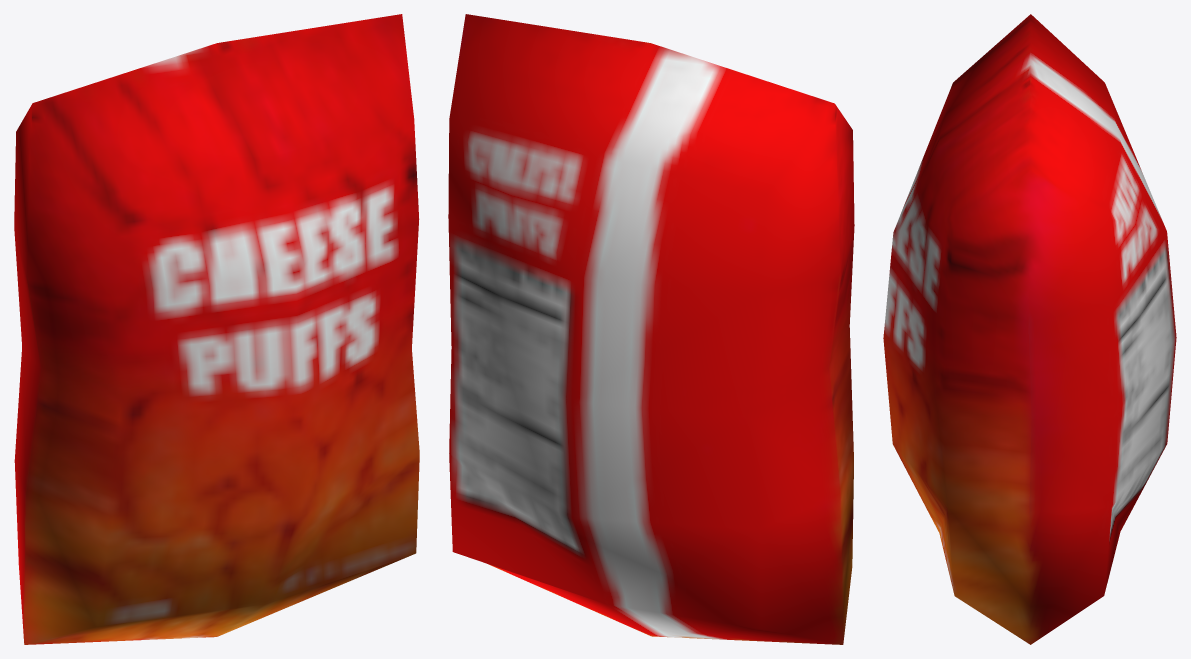
The model's file is esya_cips_large_a.glb.
3 views of the same model, side by side, from view 1: azimuth 30°, elevation 25°; view 2: azimuth 150°, elevation 25°; view 3: azimuth 270°, elevation 25° (orthographic). The views are drawn at different scales.
Visible parts, largest first — view 1: Large_A; view 2: Large_A; view 3: Large_A.
Part boxes in pixels (x1,y1,x2,y2): Large_A: [14, 14, 419, 644]; Large_A: [448, 14, 854, 644]; Large_A: [883, 14, 1176, 644].
Bounding box in the file's own units: 2.68 × 3.96 × 2.03.
Materials: 1 (1 with a texture image).
